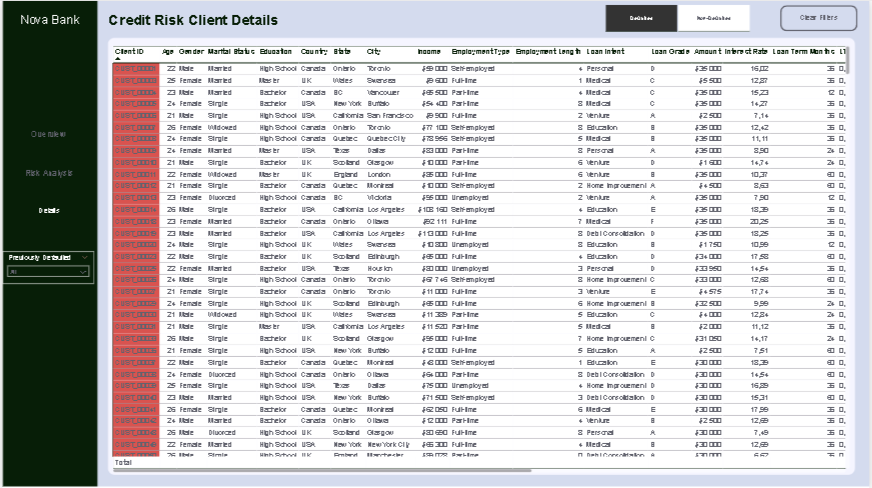

What the dashboard file says about the page in this screenshot:
{"tool":"powerbi","page":{"name":"Details","canvas":[1920,1080],"ordinal":2},"visuals":[{"type":"tableEx","fields":{"Values":["DimClient.client_ID","DimClient.person_age","DimClient.gender","DimClient.marital_status","DimClient.education_level","DimLocation.country","DimLocation.state","DimLocation.city","DimClient.person_income","DimClient.employment_type","DimClient.person_emp_length","DimLoanDetails.loan_intent"]},"box":[240,93.8,1642.5,955],"z":0},{"type":"slicer","fields":{"Values":["DimCreditHistory.cb_person_default_on_file"]},"box":[0,553.7,203.7,72.2],"z":1000},{"type":"textbox","box":[230.4,0,410.9,78.3],"z":2000},{"type":"textbox","box":[10,1.2,190,77.5],"z":3000},{"type":"pageNavigator","box":[6.2,259.4,193.8,246.9],"z":4000},{"type":"actionButton","box":[1722.7,10.6,171.2,57.6],"z":5000},{"type":"slicer","fields":{"Values":["FactLoan.loan_status"]},"box":[1310.3,3.4,369,72.4],"z":6000}]}

Visuals, with their boxes on the page's 1920x1080 design canvas (x1, y1, x2, y2). These are canvas units, not pixel positions in the 872x488 screenshot, which may show the page scaled, cropped or inside an application window:
tableEx - DimClient.client_ID x DimClient.person_age: x1=240 y1=94 x2=1882 y2=1049
slicer - DimCreditHistory.cb_person_default_on_file: x1=0 y1=554 x2=204 y2=626
textbox: x1=230 y1=0 x2=641 y2=78
textbox: x1=10 y1=1 x2=200 y2=79
pageNavigator: x1=6 y1=259 x2=200 y2=506
actionButton: x1=1723 y1=11 x2=1894 y2=68
slicer - FactLoan.loan_status: x1=1310 y1=3 x2=1679 y2=76
